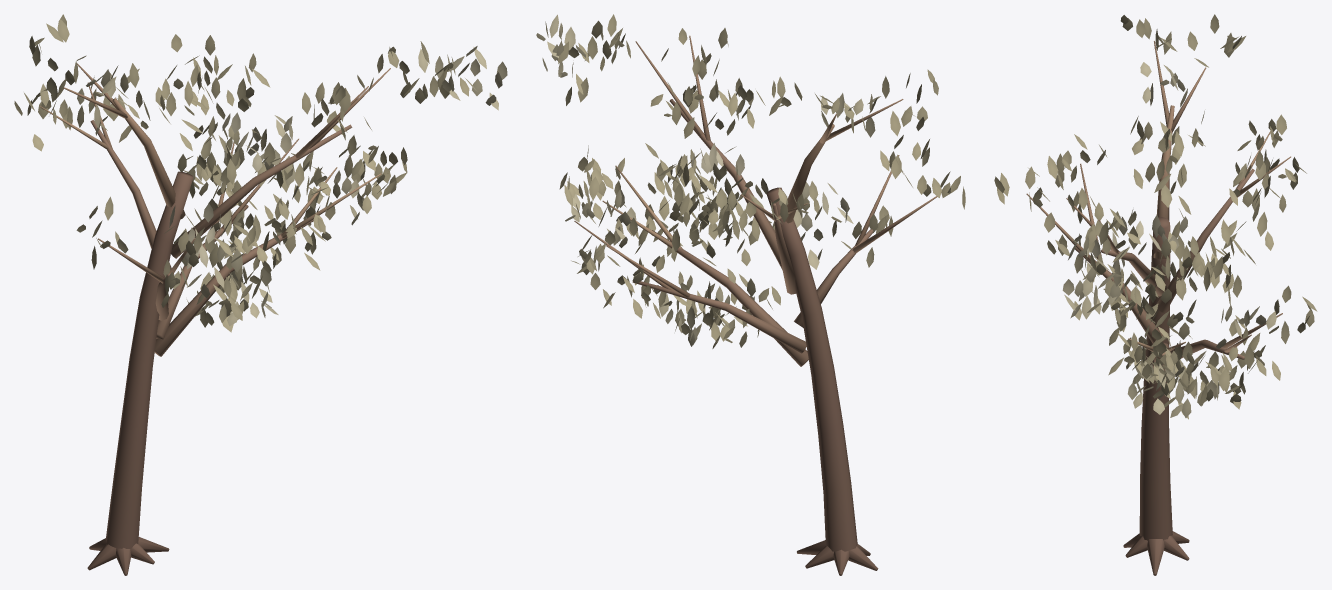
Rendered from tree_3d_04_golden_beige.glb.
The picture shows the model from 3 angles, left to right: view 1: azimuth 30°, elevation 25°; view 2: azimuth 150°, elevation 25°; view 3: azimuth 270°, elevation 25°; orthographic projection. The views are drawn at different scales.
Parts seen in each view (by area): view 1: tree_3d_04_golden_beige_foliage, tree_3d_04_golden_beige_wood; view 2: tree_3d_04_golden_beige_foliage, tree_3d_04_golden_beige_wood; view 3: tree_3d_04_golden_beige_foliage, tree_3d_04_golden_beige_wood.
Part boxes in pixels (box(x1,y1,x2,y2)): tree_3d_04_golden_beige_foliage: box(14, 14, 507, 332); tree_3d_04_golden_beige_wood: box(39, 63, 390, 575); tree_3d_04_golden_beige_foliage: box(536, 14, 965, 348); tree_3d_04_golden_beige_wood: box(574, 35, 937, 575); tree_3d_04_golden_beige_foliage: box(994, 14, 1317, 419); tree_3d_04_golden_beige_wood: box(1026, 41, 1290, 575).
Size of the model in its own units: 11.68 by 13.33 by 7.63.
